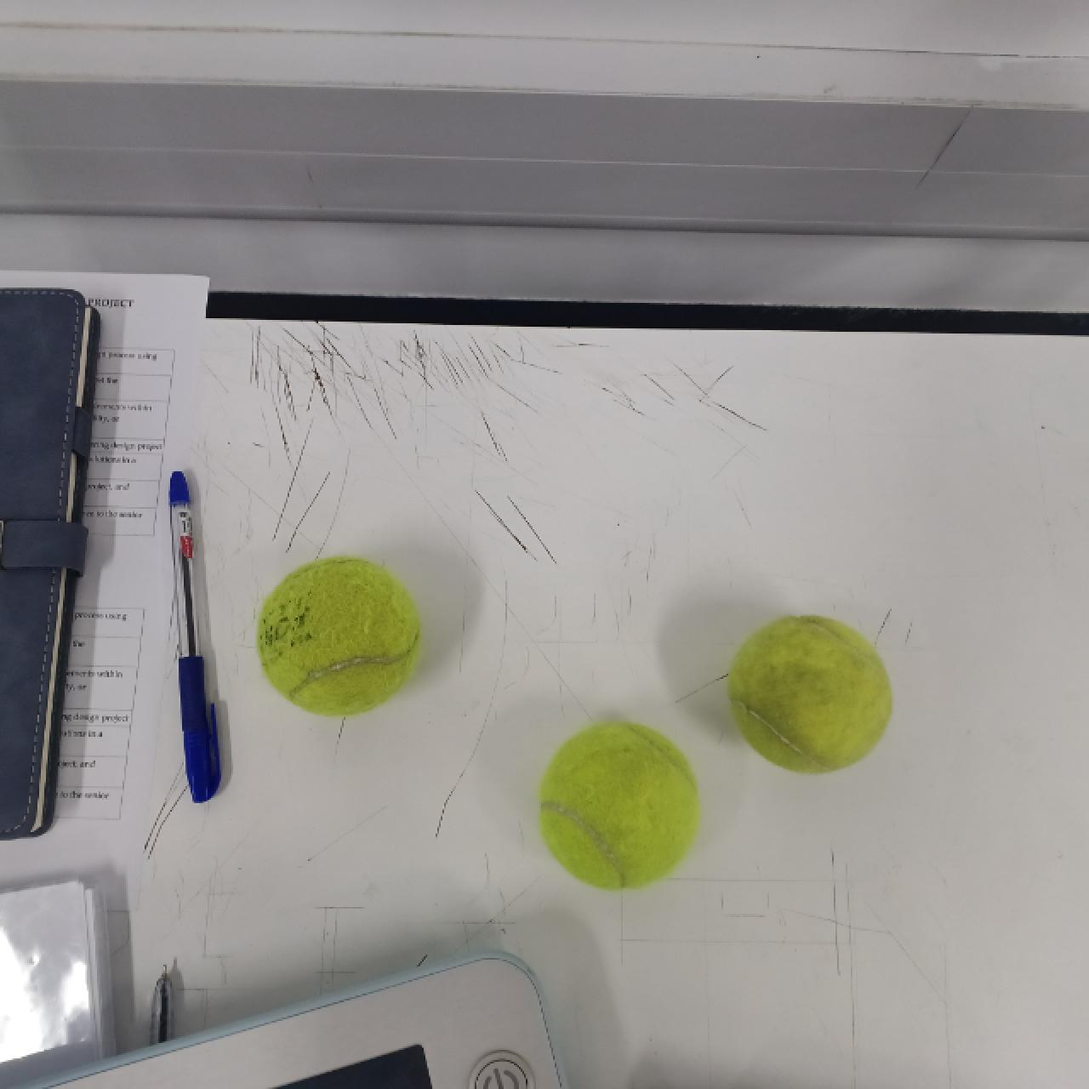tennis-ball: (540, 718, 701, 890), (257, 554, 423, 720), (727, 612, 893, 775)
